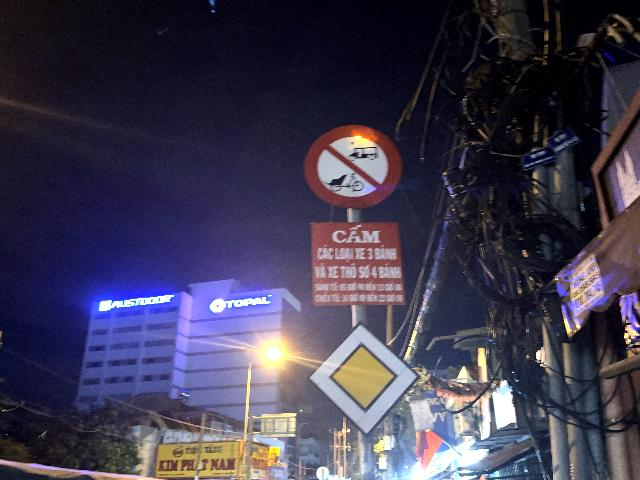bat-dau-duong-uu-tien: (307, 319, 421, 437)
cam-xe-3-banh-xe-tho-so-4-banh: (303, 124, 403, 209)
